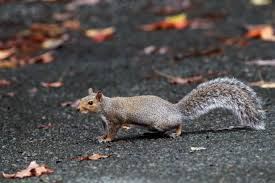squirrel: (76, 77, 266, 140)
